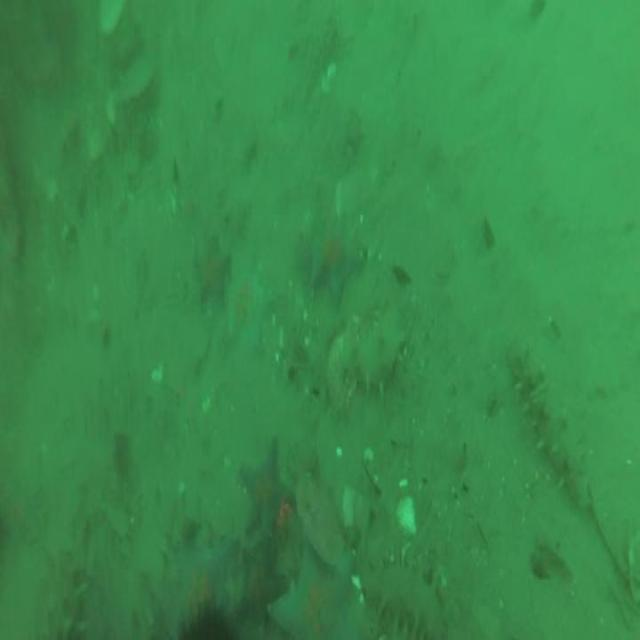holothurian: (510, 349, 591, 507), (363, 561, 442, 640), (346, 322, 404, 384)
starfish: (270, 553, 358, 640), (164, 537, 230, 624), (312, 216, 364, 302), (223, 259, 270, 354), (237, 444, 287, 529), (238, 544, 284, 613), (193, 242, 229, 303)
